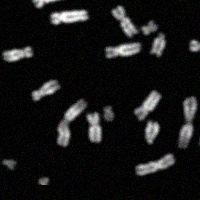chromosome: (57, 98, 87, 147), (177, 95, 197, 150), (134, 152, 175, 175), (133, 89, 161, 121), (111, 4, 137, 37), (48, 9, 89, 25), (32, 79, 60, 101), (104, 42, 141, 58), (2, 45, 33, 62), (86, 111, 101, 144), (143, 119, 160, 144), (150, 32, 166, 58), (31, 0, 72, 8), (140, 20, 156, 35), (102, 105, 115, 122), (190, 39, 200, 54)
